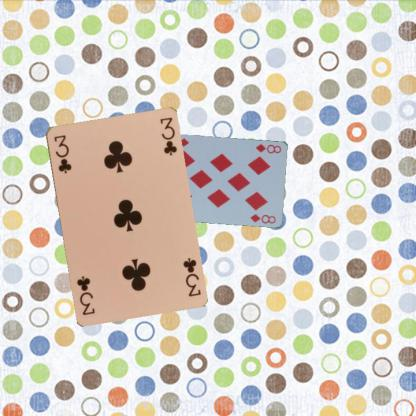3c: (180, 254, 202, 298), (51, 132, 73, 174)
8d: (253, 141, 283, 154)
